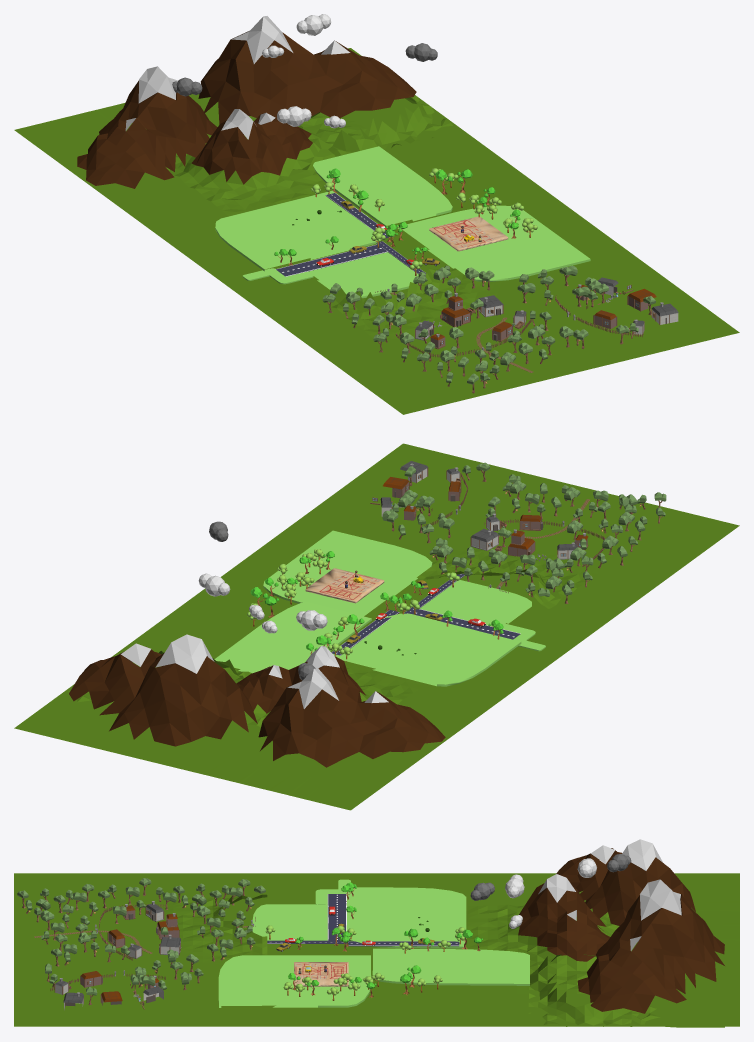
File: env.glb
3 views of the same model, one above another, from view 1: azimuth 30°, elevation 25°; view 2: azimuth 150°, elevation 25°; view 3: azimuth 270°, elevation 25° (orthographic). The views are drawn at different scales.
Visible parts, largest first — view 1: Plane.021, Plane.026, Plane.029, Platform_Grass_0.003, Plane.001, Platform_Grass_0.002, Platform_Grass_0.004, Plane.022, Plane.002, Platform_Grass_0.001, Plane.027, Mesh_0.004 (+6 smaller); view 2: Plane.021, Plane.026, Plane.029, Platform_Grass_0.003, Platform_Grass_0.002, Platform_Grass_0.004, Plane.022, Platform_Grass_0.001, Plane.002, Plane.001, Plane.028, Mesh_0.004 (+5 smaller); view 3: Plane.021, Plane.026, Platform_Grass_0.003, Platform_Grass_0.002, Plane.001, Platform_Grass_0.004, Plane.002, Plane.029, Plane.022, Plane.027, Platform_Grass_0.001, Plane.028 (+10 smaller).
Boxes of the visible parts, x1,y1,x2,y2 form: Plane.021: [14, 48, 739, 414]; Plane.026: [198, 31, 416, 124]; Plane.029: [77, 80, 217, 188]; Platform_Grass_0.003: [215, 190, 377, 271]; Plane.001: [166, 113, 449, 216]; Platform_Grass_0.002: [397, 205, 590, 281]; Platform_Grass_0.004: [313, 146, 452, 226]; Plane.022: [326, 267, 554, 353]; Plane.002: [191, 113, 312, 184]; Platform_Grass_0.001: [308, 252, 418, 298]; Plane.027: [245, 95, 452, 156]; Mesh_0.004: [429, 216, 508, 251]; Plane.021: [14, 443, 739, 810]; Plane.026: [69, 646, 257, 746]; Plane.029: [258, 681, 445, 767]; Platform_Grass_0.003: [333, 613, 521, 686]; Platform_Grass_0.002: [263, 530, 432, 616]; Platform_Grass_0.004: [214, 602, 371, 673]; Plane.022: [417, 517, 621, 608]; Platform_Grass_0.001: [419, 579, 531, 626]; Plane.002: [236, 656, 365, 713]; Plane.001: [210, 620, 426, 727]; Plane.028: [121, 634, 214, 673]; Mesh_0.004: [305, 568, 384, 603]; Plane.021: [14, 873, 739, 1026]; Plane.026: [577, 894, 724, 1013]; Platform_Grass_0.003: [346, 887, 466, 948]; Platform_Grass_0.002: [218, 955, 371, 1007]; Plane.001: [418, 904, 619, 994]; Platform_Grass_0.004: [372, 948, 529, 985]; Plane.002: [518, 883, 610, 961]; Plane.029: [556, 848, 695, 925]; Plane.022: [123, 894, 267, 968]; Plane.027: [528, 954, 724, 1027]; Platform_Grass_0.001: [252, 904, 327, 940]; Plane.028: [630, 879, 681, 950].
Bounding box in the file's own units: 401 × 137 × 781.
53 materials, 12 textured.
